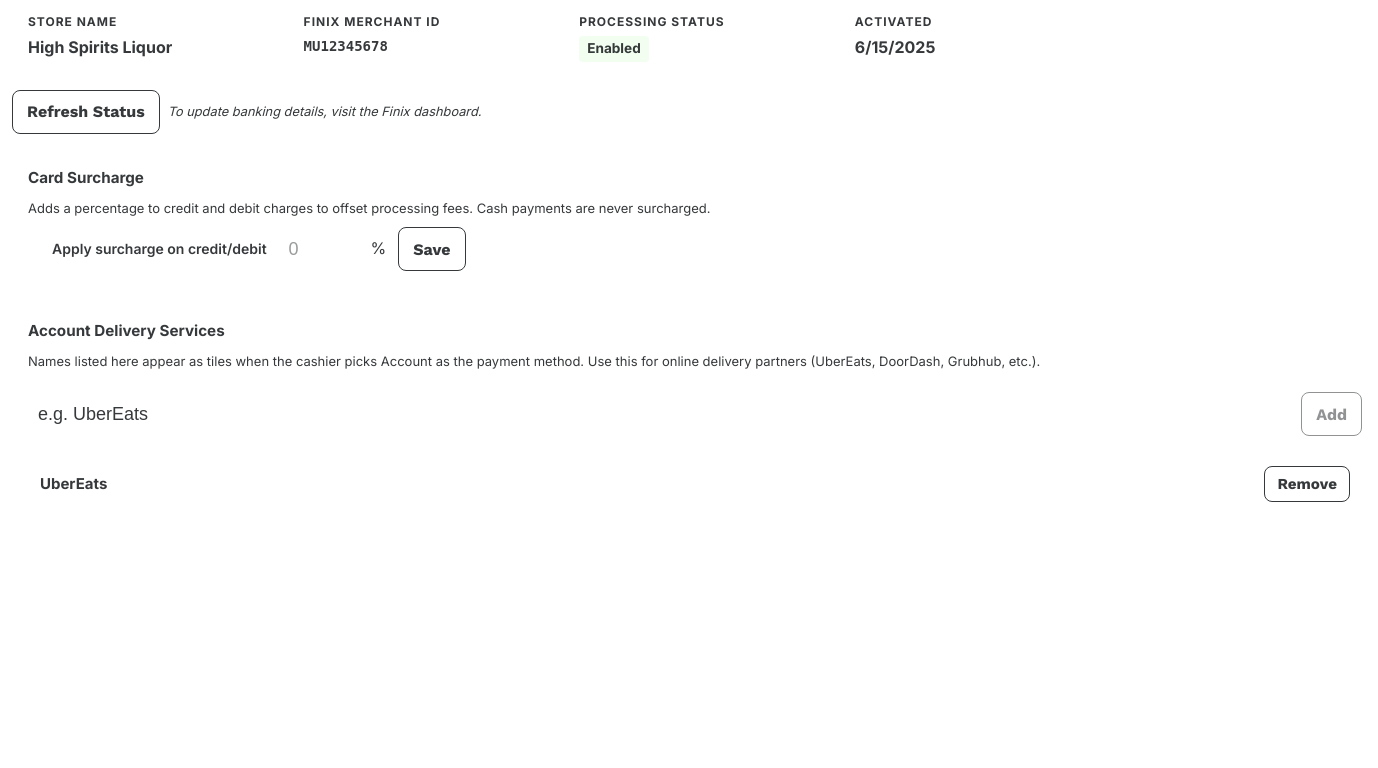
Scenario: MerchantInfoPanel › Delivery Services › blocks adding a duplicate service name (case-insensitive)
expect the text "UberEats" is shown: met, box x1=40 y1=472 x2=107 y2=496
Type "ubereats" into the field named "New delivery service name".
click(661, 414); type("ubereats")  # box x1=28 y1=396 x2=1293 y2=433
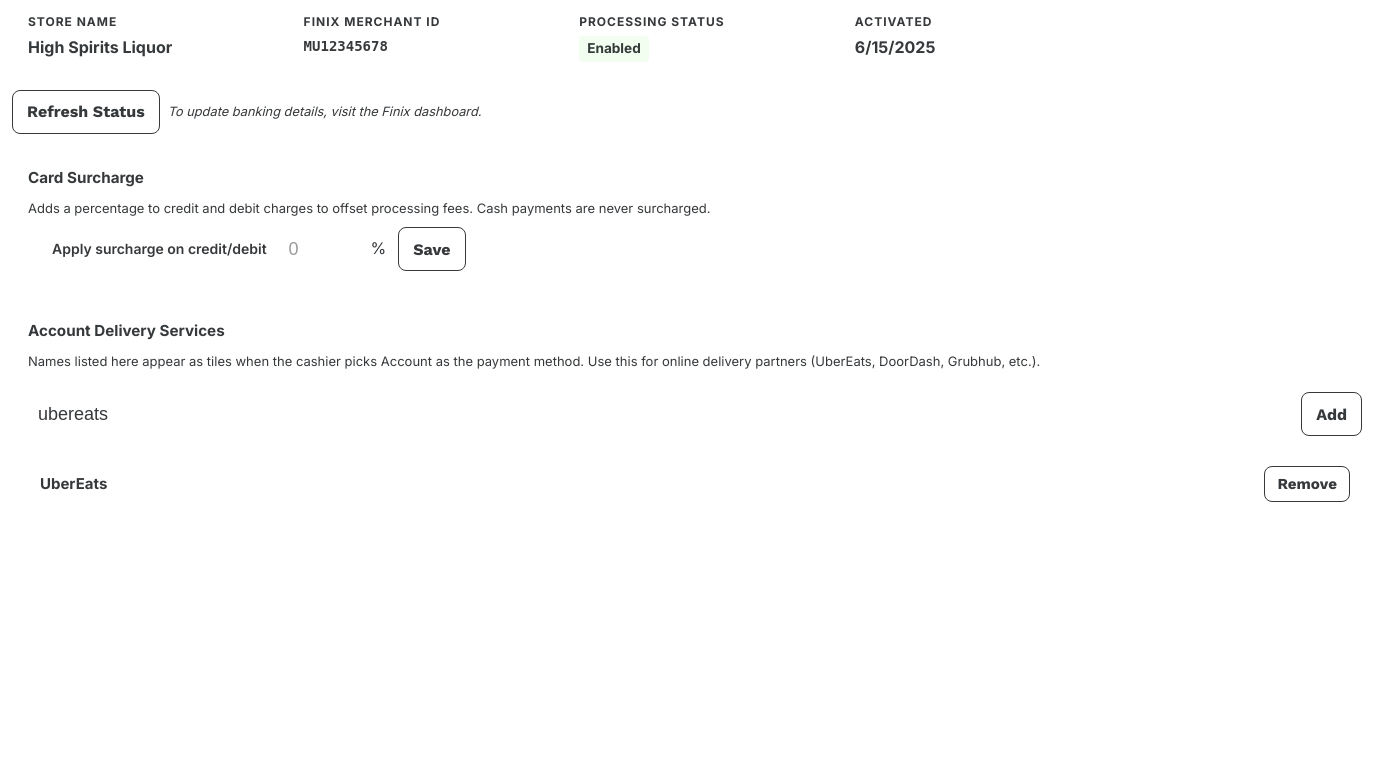
Click the button with test id "delivery-service-add-btn".
click(1332, 414)  # box x1=1301 y1=392 x2=1362 y2=436
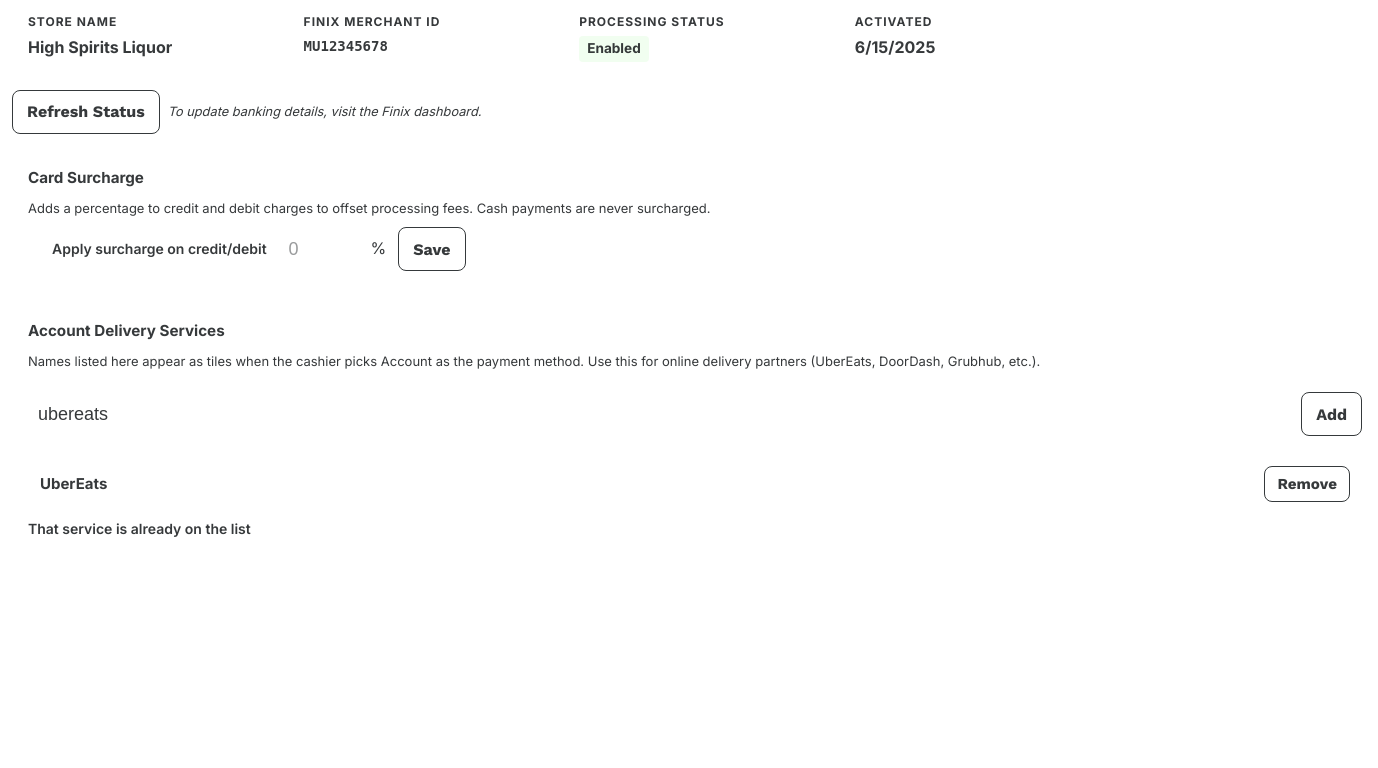
expect the text "That service is already on the list" is shown: met, box x1=28 y1=520 x2=251 y2=537
